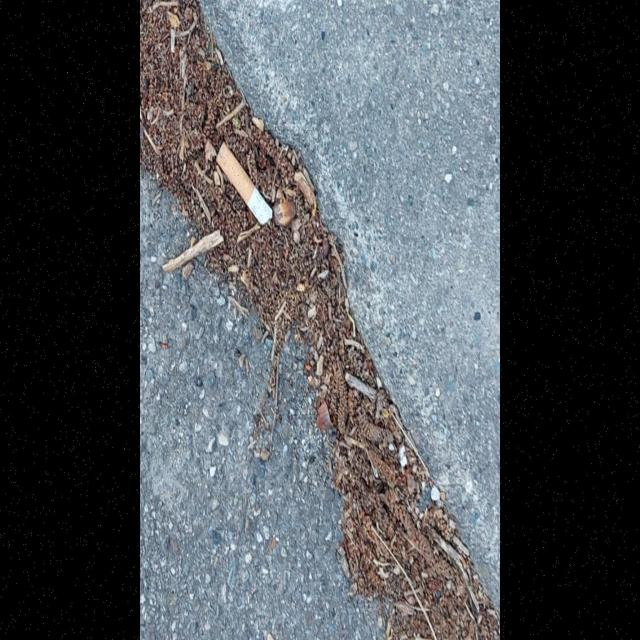other waste: (216, 141, 274, 227)
